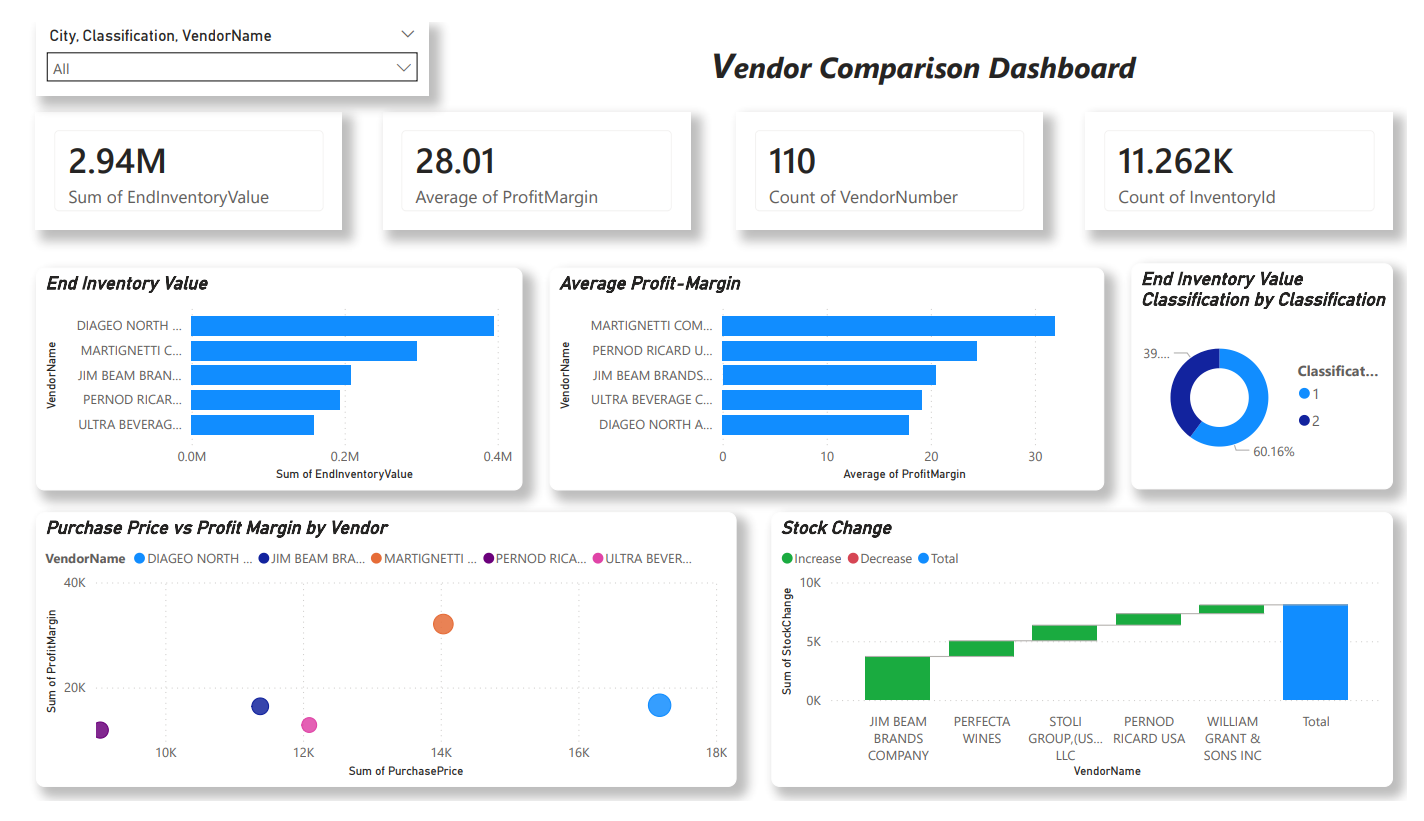

The dashboard page shown, as its layout file describes it:
{"tool":"powerbi","page":{"name":"Top Performers","canvas":[1280,720],"ordinal":0},"visuals":[{"type":"cardVisual","fields":{"Data":["Sum(final_inventory_analysis.EndInventoryValue)"]},"box":[11.7,83.3,283.3,108.3],"z":0},{"type":"cardVisual","fields":{"Data":["Avg(final_inventory_analysis.ProfitMargin)"]},"box":[333.3,83.3,283.3,108.3],"z":1000},{"type":"cardVisual","fields":{"Data":["Count(final_inventory_analysis.VendorNumber)"]},"box":[660,83.3,283.3,108.3],"z":2000},{"type":"cardVisual","fields":{"Data":["Count(final_inventory_analysis.InventoryId)"]},"box":[983.3,83.3,283.3,108.3],"z":3000},{"type":"clusteredBarChart","title":" End Inventory Value ","fields":{"Category":["final_inventory_analysis.VendorName"],"Y":["Sum(final_inventory_analysis.EndInventoryValue)"]},"box":[11.7,226.7,450,206.7],"z":4000},{"type":"clusteredBarChart","title":"Average Profit-Margin ","fields":{"Category":["final_inventory_analysis.VendorName"],"Y":["Avg(final_inventory_analysis.ProfitMargin)"]},"box":[486.7,226.7,513.3,206.7],"z":5000},{"type":"donutChart","title":"End Inventory Value Classification by Classification","fields":{"Category":["final_inventory_analysis.Classification"],"Y":["Sum(final_inventory_analysis.EndInventoryValue)"]},"box":[1025,223.3,241.7,208.3],"z":6000},{"type":"scatterChart","title":"Purchase Price vs Profit Margin by Vendor","fields":{"X":["Sum(final_inventory_analysis.PurchasePrice)"],"Y":["Sum(final_inventory_analysis.ProfitMargin)"],"Series":["final_inventory_analysis.VendorName"],"Size":["Sum(final_inventory_analysis.EndInventoryValue)"]},"box":[11.7,453.3,648.3,253.3],"z":7000},{"type":"waterfallChart","title":"Stock Change ","fields":{"Y":["Sum(final_inventory_analysis.StockChange)"],"Category":["final_inventory_analysis.VendorName"]},"box":[691.7,453.3,575,253.3],"z":8000},{"type":"slicer","fields":{"Values":["final_inventory_analysis.City","final_inventory_analysis.Classification","final_inventory_analysis.VendorName"]},"box":[11.7,0,363.3,68.3],"z":9000},{"type":"textbox","box":[398.3,11.7,868.3,56.7],"z":10000}]}

Visuals, with their boxes in screenshot pixels (x1, y1, x2, y2), scaled from the page's 1280x720 canvas onto the 1424x821 screenshot:
cardVisual - Sum(final_inventory_analysis.EndInventoryValue): 13, 95, 328, 218
cardVisual - Avg(final_inventory_analysis.ProfitMargin): 371, 95, 686, 218
cardVisual - Count(final_inventory_analysis.VendorNumber): 734, 95, 1049, 218
cardVisual - Count(final_inventory_analysis.InventoryId): 1094, 95, 1409, 218
" End Inventory Value " clusteredBarChart: 13, 259, 514, 494
"Average Profit-Margin " clusteredBarChart: 541, 259, 1112, 494
"End Inventory Value Classification by Classification" donutChart: 1140, 255, 1409, 492
"Purchase Price vs Profit Margin by Vendor" scatterChart: 13, 517, 734, 806
"Stock Change " waterfallChart: 770, 517, 1409, 806
slicer - final_inventory_analysis.City x final_inventory_analysis.Classification: 13, 0, 417, 78
textbox: 443, 13, 1409, 78
